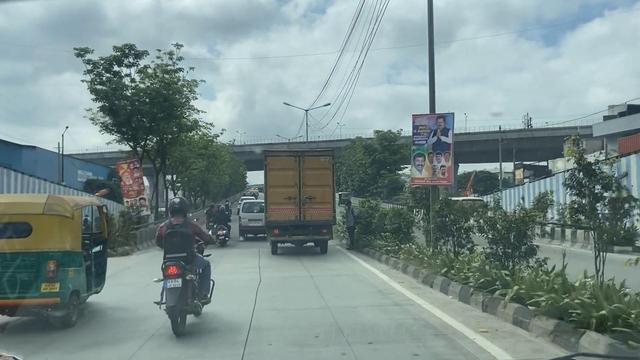HMV: (264, 150, 331, 253)
LMV: (0, 186, 101, 334), (162, 208, 208, 337)
